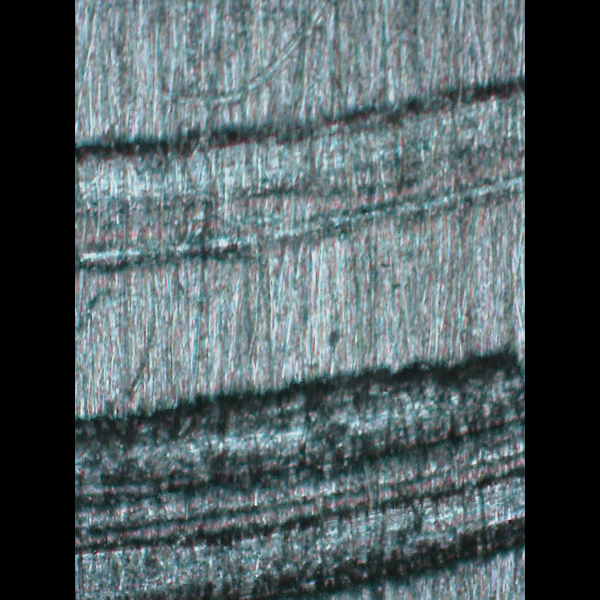d: (77, 348, 525, 599), (75, 72, 516, 274)
